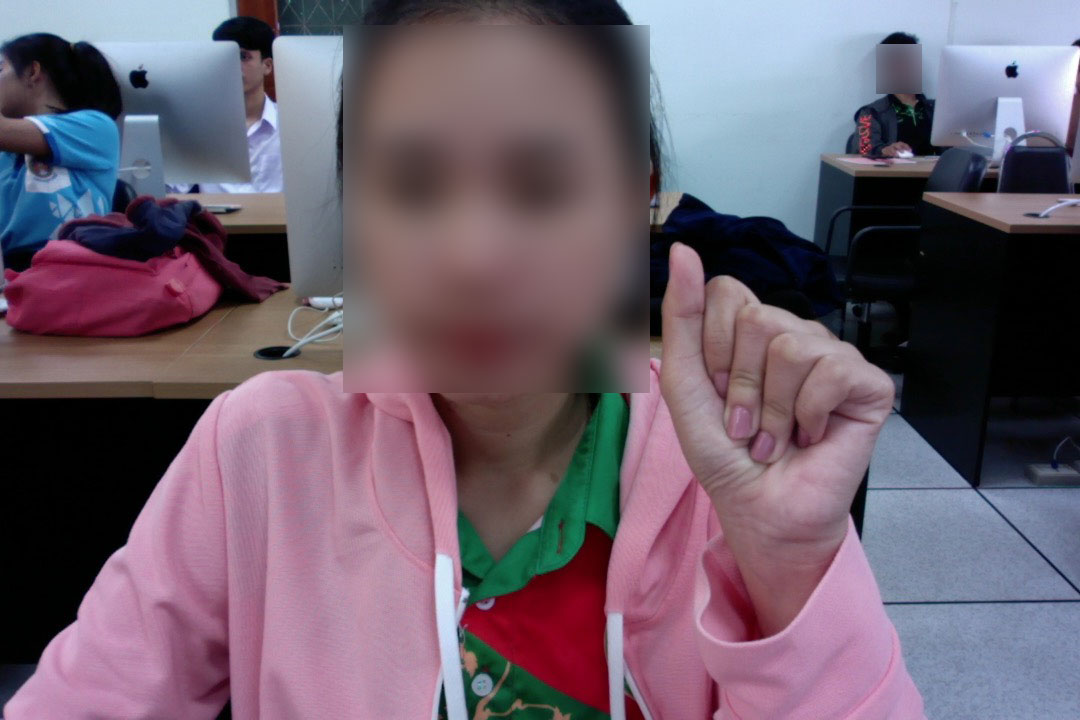or: (654, 228, 901, 557)
